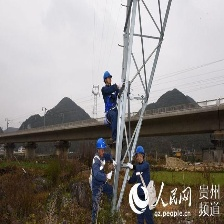helmet: (94, 138, 109, 153), (102, 67, 113, 82), (134, 145, 145, 159)
person: (87, 133, 111, 224), (132, 145, 152, 224), (101, 67, 121, 144)
